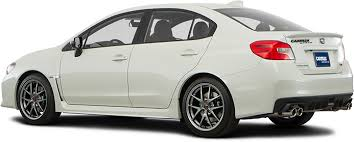car: (2, 3, 353, 137)
